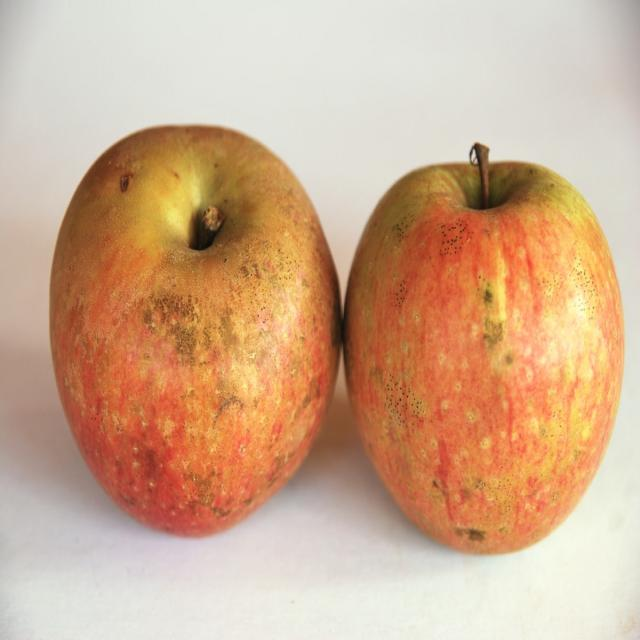Apple: (51, 121, 345, 541), (344, 138, 628, 556)
